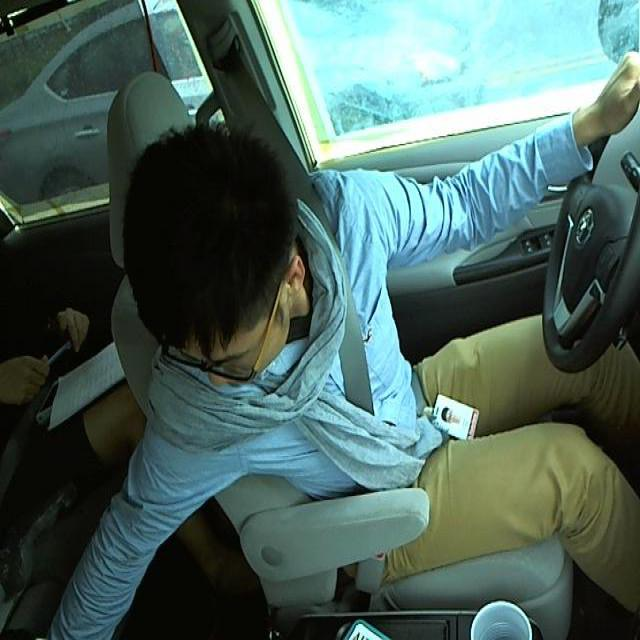seatbelt: (293, 209, 389, 491)
